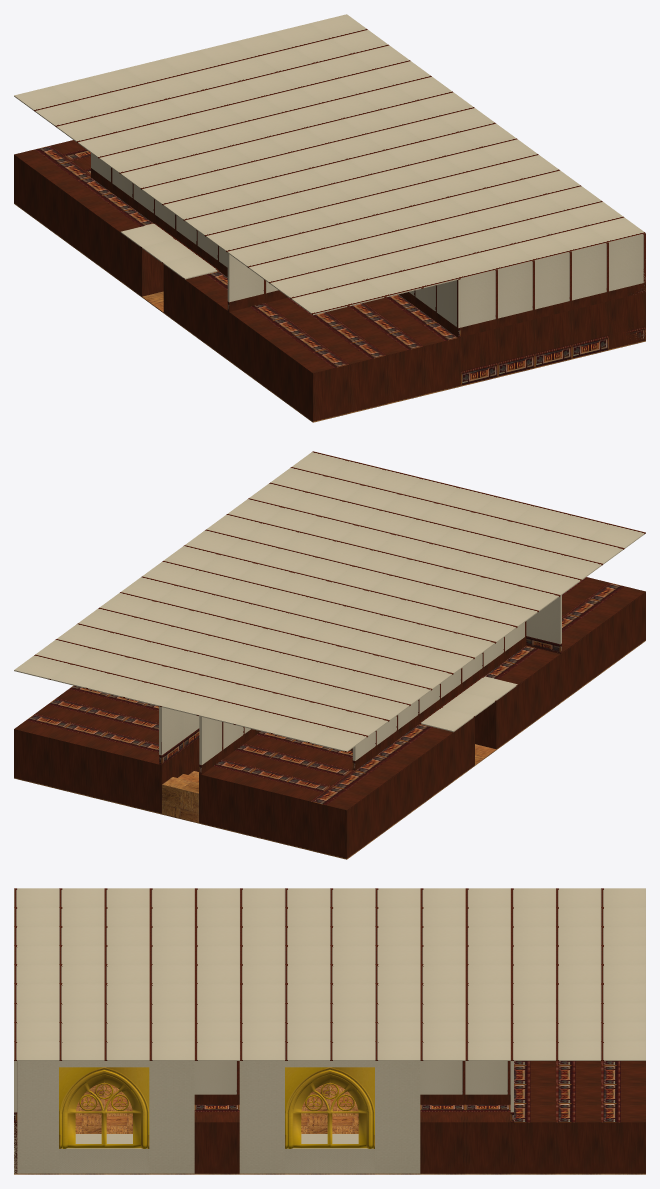
File: MusicRoom.fbx
3 renders of one model, top to bottom at view 1: azimuth 30°, elevation 25°; view 2: azimuth 150°, elevation 25°; view 3: azimuth 270°, elevation 25°, orthographic. The views are drawn at different scales.
Visible parts, largest first — view 1: MusicRoomWallB0Back.010, MusicRoomWallB0Left.002, MusicRoomWallB0Left, MusicRoomWallB0Front.002, MusicRoomWallB0Front, MusicRoomWallB0Left.001, MusicRoomEntranceCeiling, MusicRoomWallB0Left.013, MusicRoomWallB0Front.001, MusicRoomWallB0Left.014, MusicRoomWallB0Left.004, MusicRoomWallB0Left.011 (+5 smaller); view 2: MusicRoomWallB0Back.010, MusicRoomWallB0Back, MusicRoomWallB0Left, MusicRoomWallB0Back.001, MusicRoomWallB0Left.002, MusicRoomWallB0Left.001, MusicRoomWallB0Left.013, MusicRoomEntranceCeiling, MusicRoomWallB0Left.004, MusicRoomStairs, MusicRoomWallB0Back.009, MusicRoomWallB0Back.006 (+3 smaller); view 3: MusicRoomWallB0Back.010, MusicRoomWallB0Back, MusicRoomWallWindow, MusicRoomWallWindow.001, MusicRoomWallB0Right, MusicRoomFloorB0, MusicRoomWallWindow.003, MusicRoomWallWindow.002, MusicRoomWallB0Right.001, MusicRoomWallB0Right.004, MusicRoomWallB0Right.005, MusicRoomWallB0Right.003 (+1 smaller).
Boxes of the visible parts, box(x1,y1,x2,y2) form: MusicRoomWallB0Back.010: box(14, 14, 645, 315); MusicRoomWallB0Left.002: box(227, 294, 460, 421); MusicRoomWallB0Left: box(14, 145, 163, 296); MusicRoomWallB0Front.002: box(461, 234, 645, 327); MusicRoomWallB0Front: box(461, 292, 645, 385); MusicRoomWallB0Left.001: box(163, 264, 227, 358); MusicRoomEntranceCeiling: box(120, 223, 218, 279); MusicRoomWallB0Left.013: box(91, 153, 227, 267); MusicRoomWallB0Front.001: box(461, 282, 645, 337); MusicRoomWallB0Left.014: box(409, 279, 460, 328); MusicRoomWallB0Left.004: box(91, 168, 227, 276); MusicRoomWallB0Left.011: box(227, 253, 278, 302); MusicRoomWallB0Back.010: box(14, 451, 645, 752); MusicRoomWallB0Back: box(14, 685, 199, 813); MusicRoomWallB0Left: box(310, 717, 474, 858); MusicRoomWallB0Back.001: box(199, 731, 352, 849); MusicRoomWallB0Left.002: box(560, 577, 645, 701); MusicRoomWallB0Left.001: box(475, 645, 560, 749); MusicRoomWallB0Left.013: box(352, 621, 526, 760); MusicRoomEntranceCeiling: box(419, 676, 517, 732); MusicRoomWallB0Left.004: box(352, 636, 526, 770); MusicRoomStairs: box(162, 771, 198, 822); MusicRoomWallB0Back.009: box(199, 716, 250, 764); MusicRoomWallB0Back.006: box(159, 706, 199, 755); MusicRoomWallB0Back.010: box(14, 888, 645, 1060); MusicRoomWallB0Back: box(510, 1061, 645, 1173); MusicRoomWallWindow: box(239, 1061, 420, 1173); MusicRoomWallWindow.001: box(14, 1061, 194, 1173); MusicRoomWallB0Right: box(420, 1104, 510, 1173); MusicRoomFloorB0: box(14, 1082, 645, 1174); MusicRoomWallWindow.003: box(59, 1067, 149, 1148); MusicRoomWallWindow.002: box(285, 1067, 374, 1148); MusicRoomWallB0Right.001: box(194, 1104, 239, 1173); MusicRoomWallB0Right.004: box(420, 1061, 510, 1094); MusicRoomWallB0Right.005: box(194, 1061, 239, 1094); MusicRoomWallB0Right.003: box(420, 1094, 510, 1104).
Bounding box in the file's own units: 1800 × 560 × 2800.
